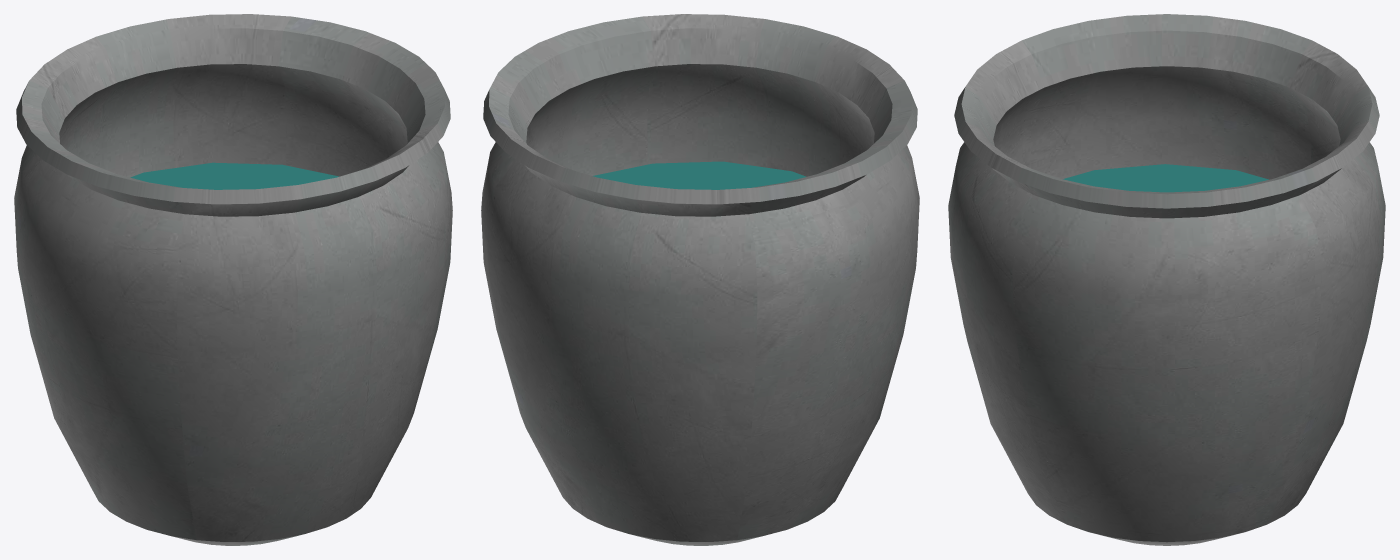
3 views of the same model, side by side, from view 1: azimuth 30°, elevation 25°; view 2: azimuth 150°, elevation 25°; view 3: azimuth 270°, elevation 25° (orthographic).
Parts seen in each view (by area): view 1: fangzi_11; view 2: fangzi_11; view 3: fangzi_11.
Boxes of the visible parts, x1,y1,x2,y2 form: fangzi_11: (14, 14, 452, 545); fangzi_11: (481, 14, 919, 545); fangzi_11: (948, 14, 1385, 545).
Bounding box in the file's own units: 80.31 × 82.35 × 80.31.
2 materials, 2 textured.
